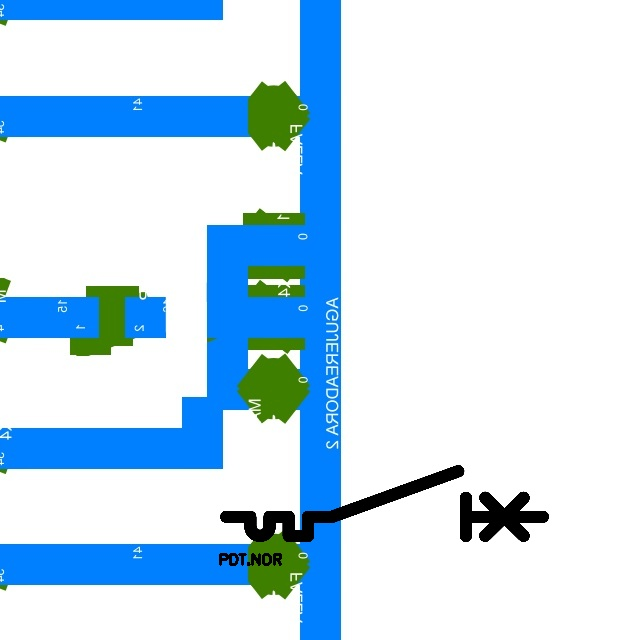interruptor_termomagnetico: (218, 463, 551, 544)
